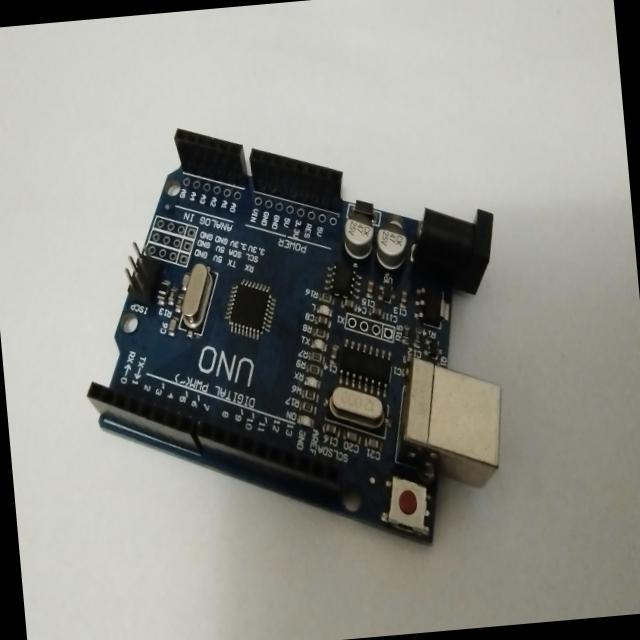arduino: (65, 90, 526, 590)
